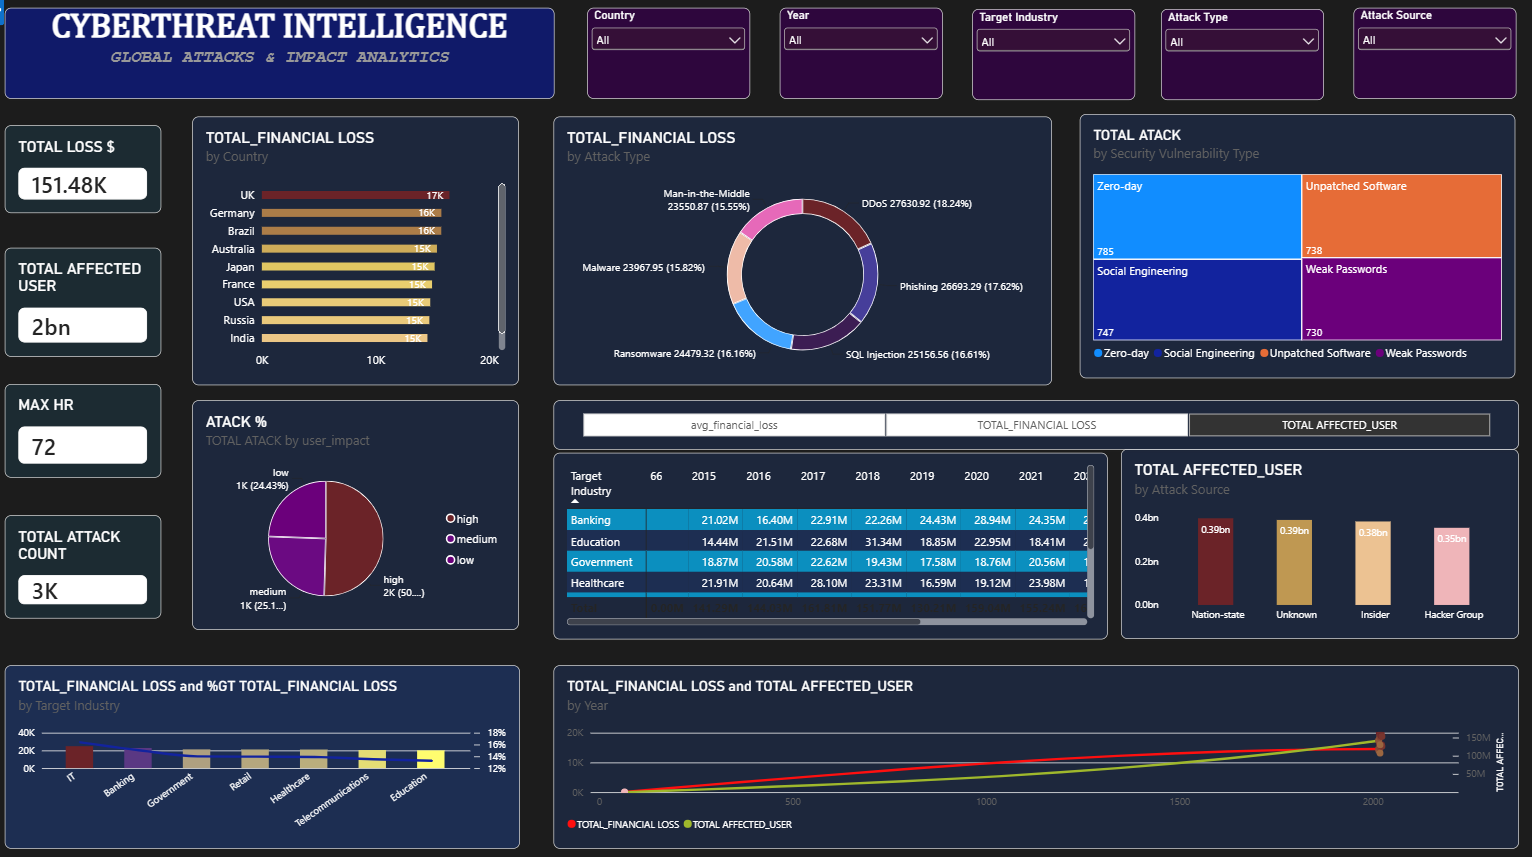

This screenshot's page, from the dashboard's own definition file:
{"tool":"powerbi","page":{"name":"Page 1","canvas":[1920,1080],"ordinal":0},"visuals":[{"type":"textbox","box":[10.3,16.5,685.4,113.2],"z":0},{"type":"slicer","fields":{"Values":["Global_Cybersecurity_Threats_20.Year"]},"box":[976.8,16.6,202.8,113.8],"z":1000},{"type":"slicer","fields":{"Values":["Attack_desc (2).Attack Type"]},"box":[1452.7,18.6,202.8,113.8],"z":2000},{"type":"slicer","fields":{"Values":["Global_Cybersecurity_Threats_20.Target Industry"]},"box":[1216.8,18.6,202.8,113.8],"z":3000},{"type":"slicer","fields":{"Values":["Global_Cybersecurity_Threats_20.Attack Source"]},"box":[1692.8,16.6,202.8,113.8],"z":4000},{"type":"cardVisual","title":"TOTAL LOSS $","fields":{"Data":["MEASURE.TOTAL_FINANCIAL LOSS"]},"box":[10.5,164,195.3,109.9],"z":5000},{"type":"actionButton","box":[0,0,10.3,39.3],"z":6000},{"type":"cardVisual","title":"TOTAL AFFECTED USER","fields":{"Data":["MEASURE.TOTAL AFFECTED_USER"]},"box":[10.5,315.7,195.3,136],"z":7000},{"type":"cardVisual","title":"MAX HR","fields":{"Data":["MEASURE.MAX-HR"]},"box":[10.5,486.6,195.3,116.9],"z":8000},{"type":"cardVisual","title":"TOTAL ATTACK COUNT","fields":{"Data":["MEASURE.TOTAL ATACK"]},"box":[10.5,650.6,195.3,129.1],"z":9000},{"type":"clusteredBarChart","fields":{"Category":["Global_Cybersecurity_Threats_20.Country"],"Y":["MEASURE.TOTAL_FINANCIAL LOSS"]},"box":[244.9,152.3,407.5,335.5],"z":10000},{"type":"slicer","fields":{"Values":["Global_Cybersecurity_Threats_20.Country"]},"box":[736.7,16.6,202.8,113.8],"z":11000},{"type":"donutChart","fields":{"Category":["Attack_desc (2).Attack Type"],"Y":["MEASURE.TOTAL_FINANCIAL LOSS"]},"box":[695.7,152.3,621.6,335.5],"z":12000},{"type":"treemap","fields":{"Group":["Global_Cybersecurity_Threats_20.Security Vulnerability Type"],"Values":["MEASURE.TOTAL ATACK"]},"box":[1352.3,150.3,543.4,329.3],"z":13000},{"type":"lineChart","fields":{"Category":["Global_Cybersecurity_Threats_20.Year"],"Y":["MEASURE.TOTAL_FINANCIAL LOSS"],"Y2":["MEASURE.TOTAL AFFECTED_USER"]},"box":[695.7,837.7,1204.1,228.5],"z":14000},{"type":"columnChart","fields":{"Category":["Global_Cybersecurity_Threats_20.Attack Source"],"Y":["MEASURE.TOTAL_FINANCIAL LOSS"]},"box":[1403.8,568.1,496.1,236.7],"z":15000},{"type":"slicer","fields":{"Values":["matrix.matrix"]},"box":[695.7,506.3,1204.1,61.7],"z":16000},{"type":"pivotTable","fields":{"Columns":["Global_Cybersecurity_Threats_20.Year"],"Rows":["Global_Cybersecurity_Threats_20.Target Industry"],"Values":["MEASURE.TOTAL_FINANCIAL LOSS"]},"box":[695.7,572.2,691.6,232.6],"z":17000},{"type":"pieChart","title":"ATACK  %","fields":{"Category":["Global_Cybersecurity_Threats_20.user_impact"],"Y":["MEASURE.TOTAL ATACK"]},"box":[244.9,506.3,407.5,286.1],"z":17001},{"type":"lineStackedColumnComboChart","fields":{"Category":["Global_Cybersecurity_Threats_20.Target Industry"],"Y":["MEASURE.TOTAL_FINANCIAL LOSS"],"Y2":["Divide(MEASURE.TOTAL_FINANCIAL LOSS, ScopedEval(MEASURE.TOTAL_FINANCIAL LOSS, []))"]},"box":[10.3,837.7,642.2,228.5],"z":17002}]}

Visuals, with their boxes in screenshot pixels (x1, y1, x2, y2), scaled from the page's 1920x1080 canvas onto the 1532x857 screenshot:
textbox: x1=8 y1=13 x2=555 y2=103
slicer - Global_Cybersecurity_Threats_20.Year: x1=779 y1=13 x2=941 y2=103
slicer - Attack_desc (2).Attack Type: x1=1159 y1=15 x2=1321 y2=105
slicer - Global_Cybersecurity_Threats_20.Target Industry: x1=971 y1=15 x2=1133 y2=105
slicer - Global_Cybersecurity_Threats_20.Attack Source: x1=1351 y1=13 x2=1513 y2=103
"TOTAL LOSS $" cardVisual: x1=8 y1=130 x2=164 y2=217
actionButton: x1=0 y1=0 x2=8 y2=31
"TOTAL AFFECTED USER" cardVisual: x1=8 y1=251 x2=164 y2=358
"MAX HR" cardVisual: x1=8 y1=386 x2=164 y2=479
"TOTAL ATTACK COUNT" cardVisual: x1=8 y1=516 x2=164 y2=619
clusteredBarChart - Global_Cybersecurity_Threats_20.Country x MEASURE.TOTAL_FINANCIAL LOSS: x1=195 y1=121 x2=521 y2=387
slicer - Global_Cybersecurity_Threats_20.Country: x1=588 y1=13 x2=750 y2=103
donutChart - Attack_desc (2).Attack Type x MEASURE.TOTAL_FINANCIAL LOSS: x1=555 y1=121 x2=1051 y2=387
treemap - Global_Cybersecurity_Threats_20.Security Vulnerability Type x MEASURE.TOTAL ATACK: x1=1079 y1=119 x2=1513 y2=381
lineChart - Global_Cybersecurity_Threats_20.Year x MEASURE.TOTAL_FINANCIAL LOSS: x1=555 y1=665 x2=1516 y2=846
columnChart - Global_Cybersecurity_Threats_20.Attack Source x MEASURE.TOTAL_FINANCIAL LOSS: x1=1120 y1=451 x2=1516 y2=639
slicer - matrix.matrix: x1=555 y1=402 x2=1516 y2=451
pivotTable - Global_Cybersecurity_Threats_20.Year x Global_Cybersecurity_Threats_20.Target Industry: x1=555 y1=454 x2=1107 y2=639
"ATACK  %" pieChart: x1=195 y1=402 x2=521 y2=629
lineStackedColumnComboChart - Global_Cybersecurity_Threats_20.Target Industry x MEASURE.TOTAL_FINANCIAL LOSS: x1=8 y1=665 x2=521 y2=846
